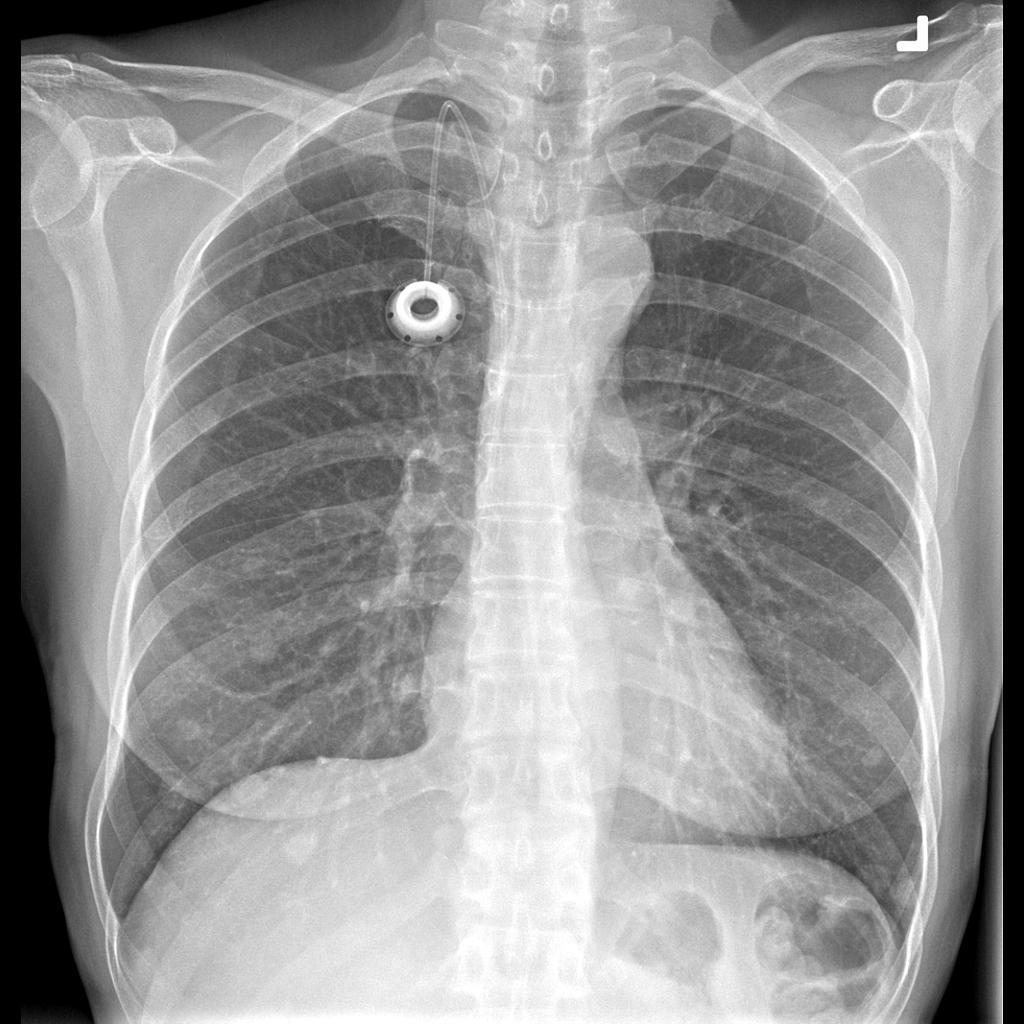Nodule: (238, 618, 294, 673), (280, 818, 334, 873), (150, 763, 198, 812)
